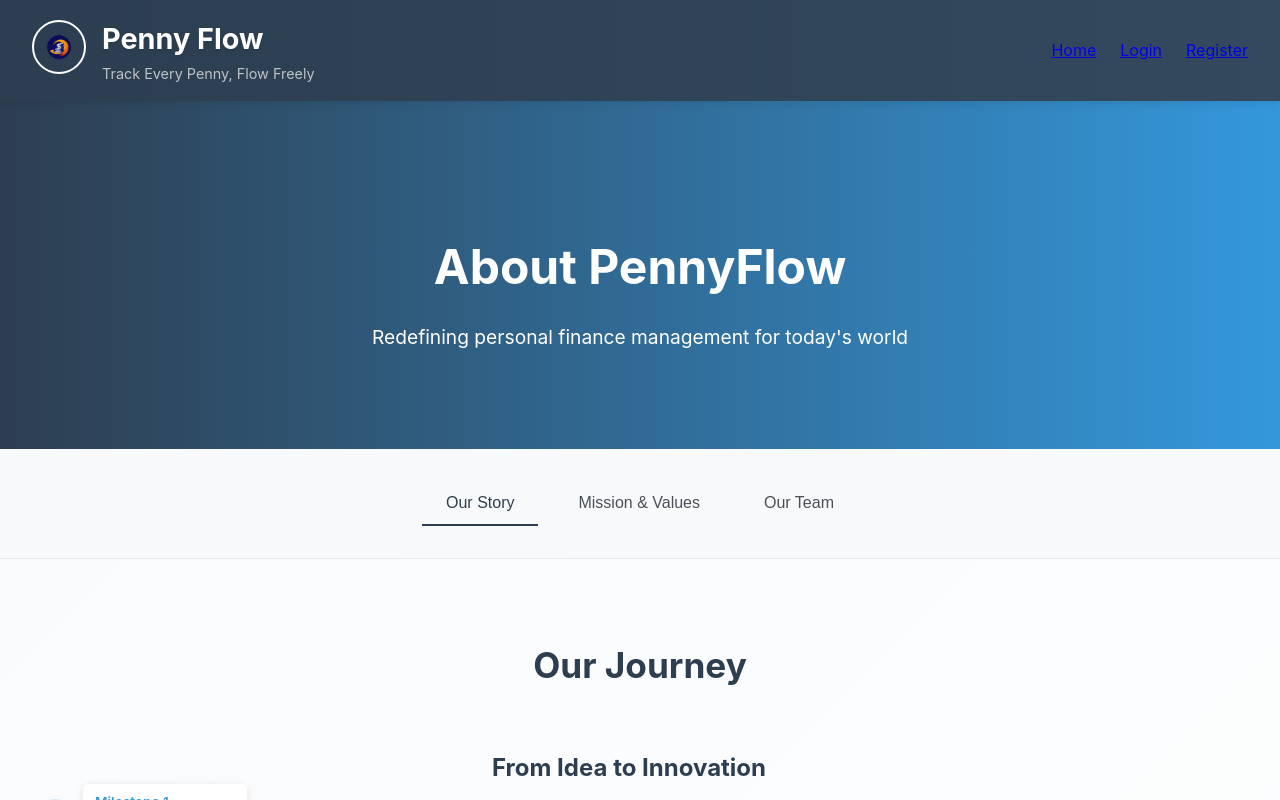
Test case: PennyFlow About Us Page › switches to Our Team tab and validates team member details
The width and height of the screenshot is (1280, 800).
Click the button "Our Team".
click(799, 504)  # box [740, 481, 858, 527]
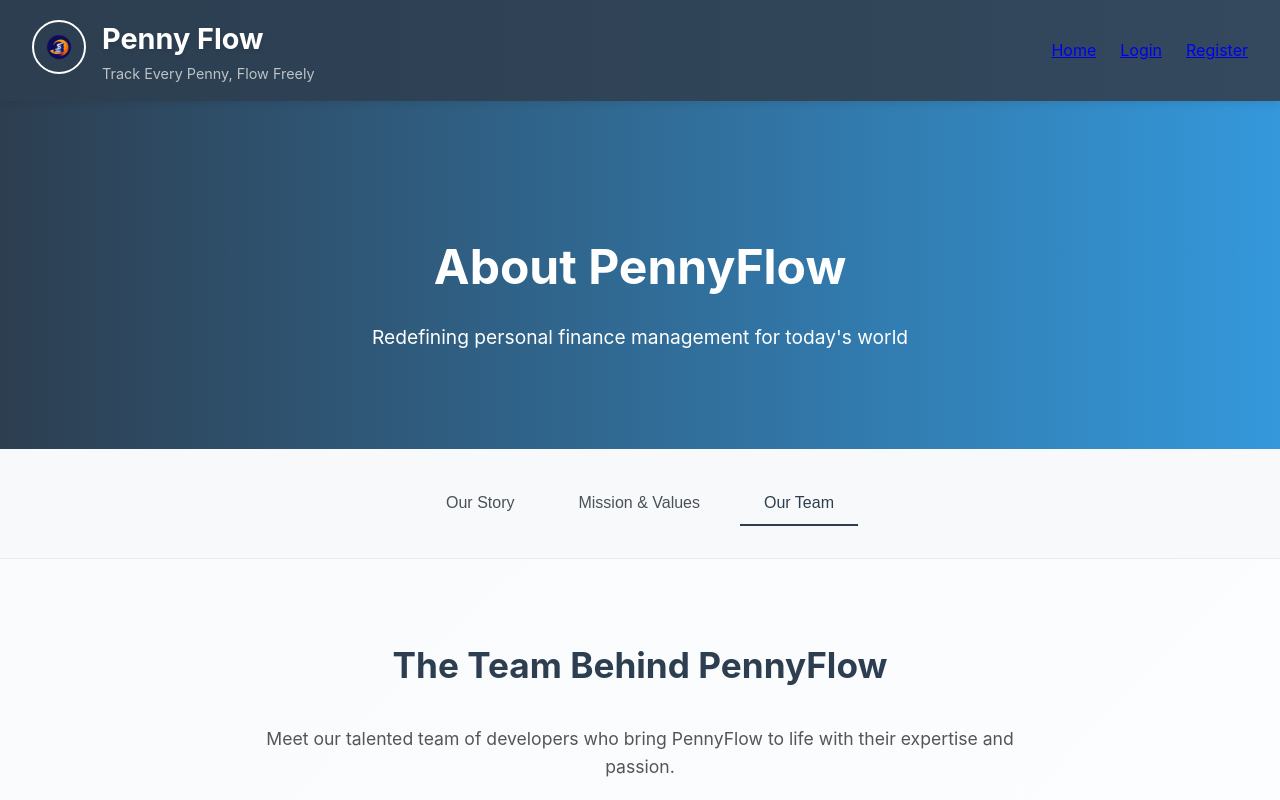
Check: the element with id "team" is shown, box [40, 637, 1240, 799]
